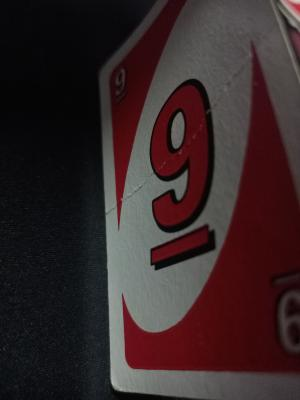num_9: (145, 71, 229, 277)
